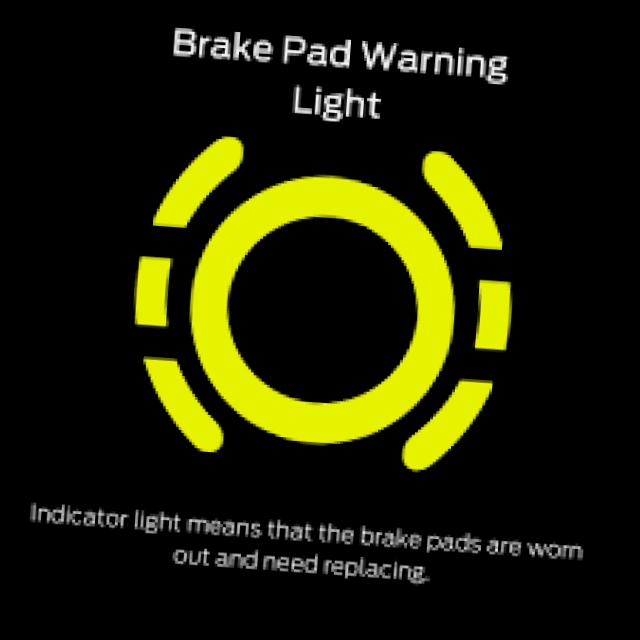kontrolka: (72, 110, 558, 497)
